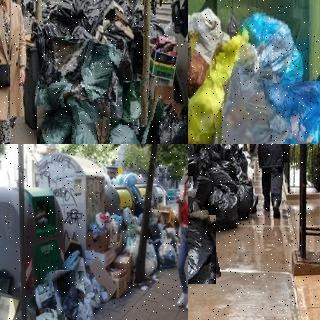Garbage: (208, 61, 290, 144), (235, 10, 307, 89), (264, 79, 320, 144), (42, 72, 98, 128), (59, 90, 114, 144), (73, 42, 120, 104), (138, 99, 188, 144), (188, 212, 218, 287), (43, 37, 83, 82), (54, 270, 86, 320), (36, 105, 77, 144), (203, 186, 239, 230), (95, 117, 149, 144), (205, 160, 239, 195), (123, 81, 148, 125), (236, 177, 259, 222), (188, 144, 200, 172), (35, 308, 62, 320)
